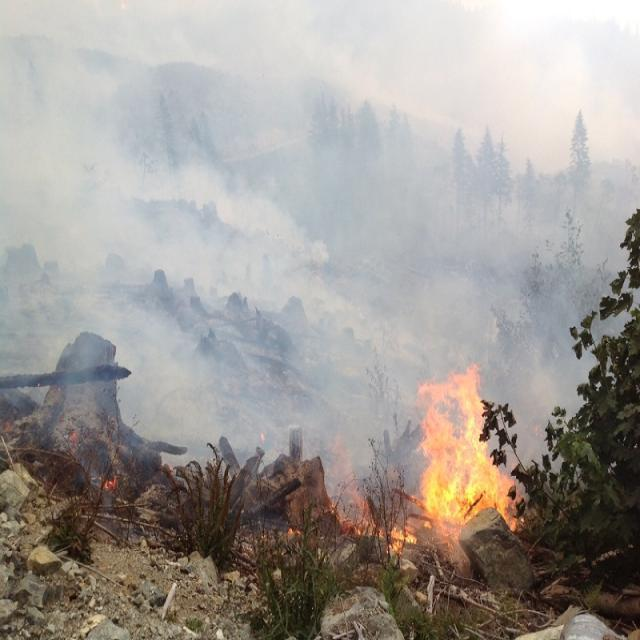Fire: (398, 354, 558, 554)
Smoke: (0, 0, 375, 508), (358, 0, 640, 492)
